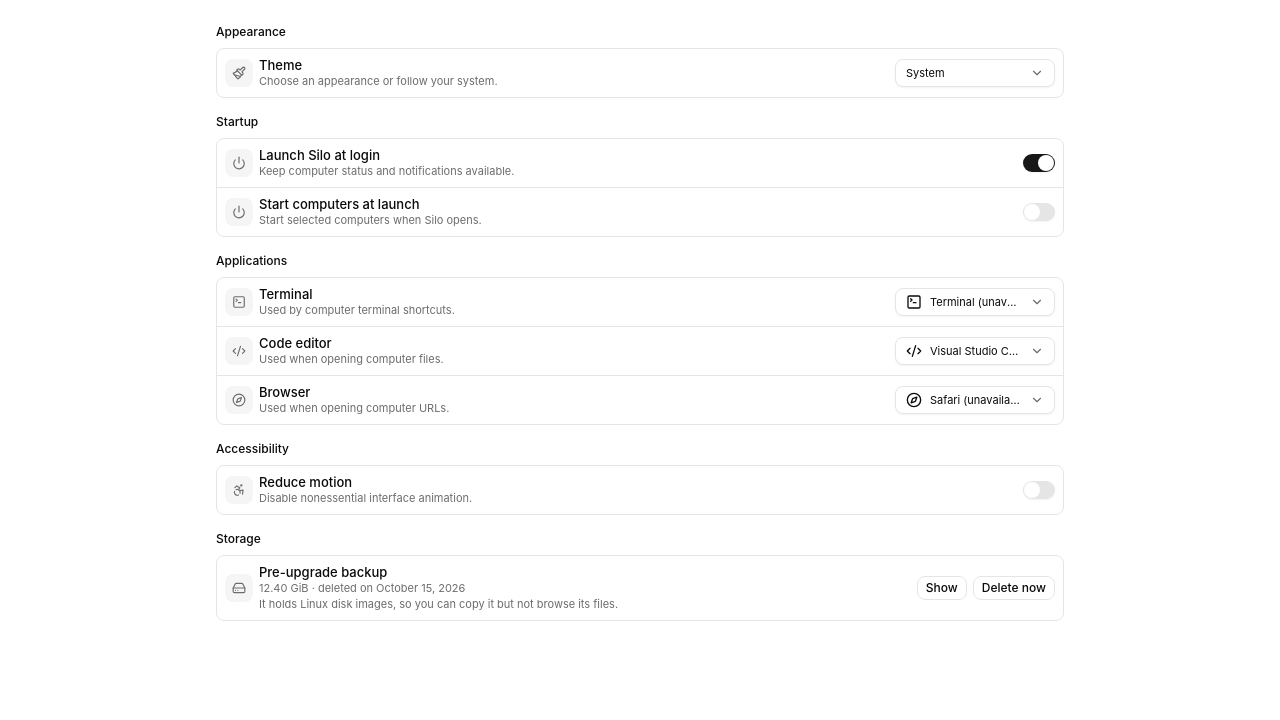
Test: lists the pre-upgrade backup under Storage, after the other sections, until it is deleted
Check: the element "Storage" shows "Pre-upgrade backup", box [259,564,387,580]
Check: the text "12.40 GiB · deleted on October 15, 2026" is shown, box [259,581,465,595]
Click the button "Delete now".
click(1014, 588)  # box [973,576,1055,600]
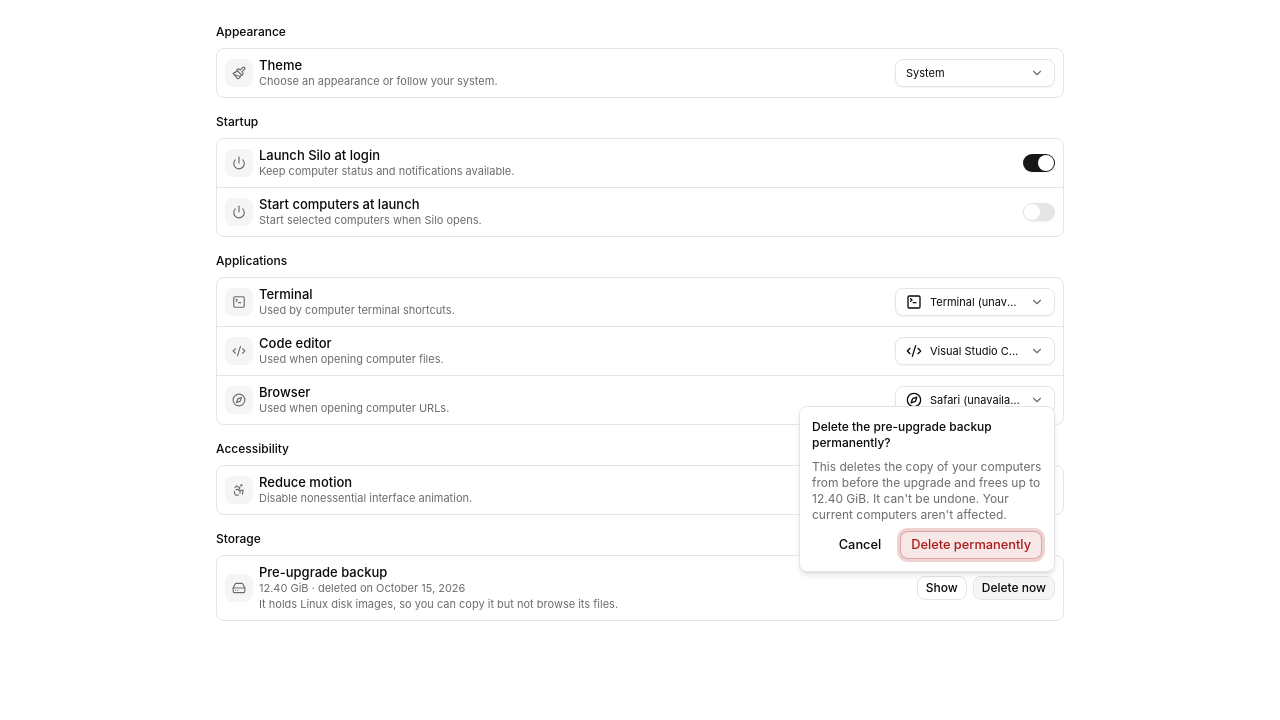
Click the button "Delete permanently".
click(971, 545)  # box [900,531,1042,559]
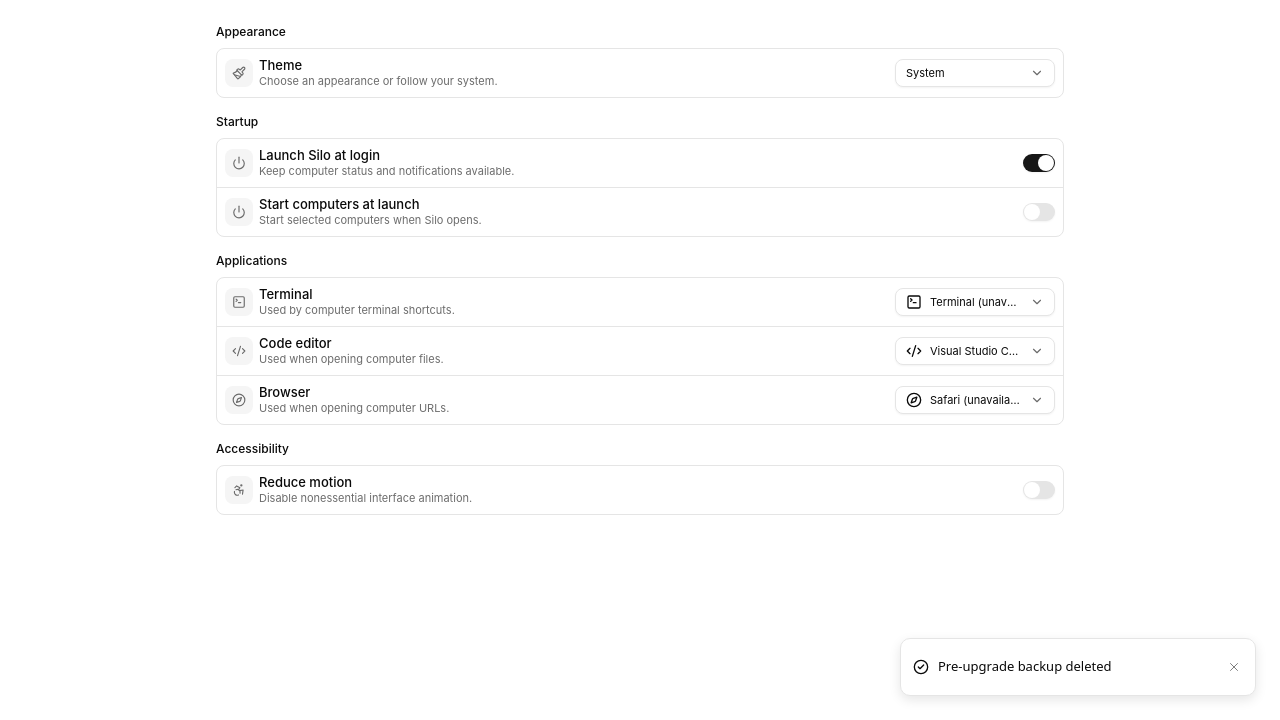
Check: the heading "Storage" is gone
